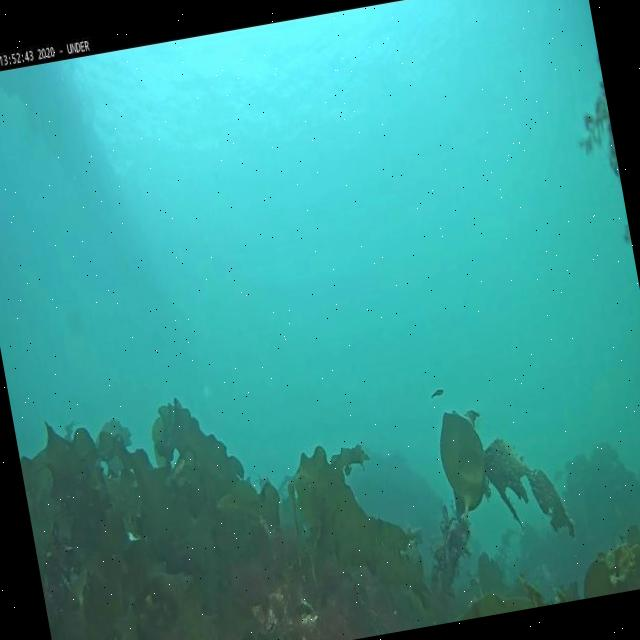fish: (428, 385, 443, 397)
